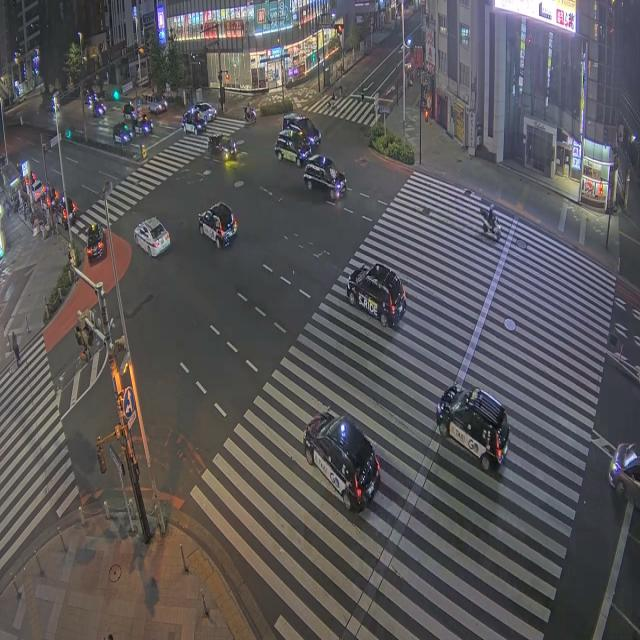car: (303, 411, 380, 511), (436, 385, 509, 471), (347, 264, 405, 327), (609, 444, 639, 506), (304, 155, 346, 199), (199, 202, 237, 247), (134, 217, 170, 256), (275, 129, 311, 166), (283, 113, 321, 146), (208, 135, 237, 160), (54, 195, 78, 225), (86, 224, 105, 261), (182, 112, 206, 135), (132, 114, 153, 135), (193, 103, 216, 122), (144, 95, 167, 114), (113, 122, 131, 144), (32, 180, 46, 201), (89, 100, 106, 117), (123, 103, 135, 119)
motorcycle: (480, 205, 501, 240), (245, 108, 255, 123)
